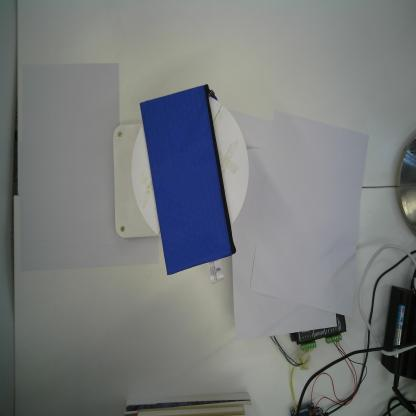Stationery: (139, 82, 238, 286)
